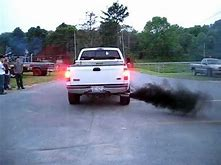smoke: (129, 80, 218, 115)
